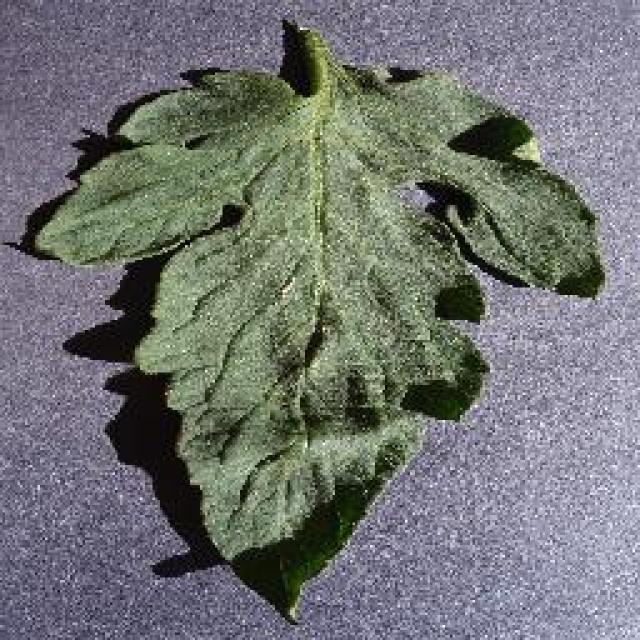Tomato___healthy: (23, 27, 608, 624)
